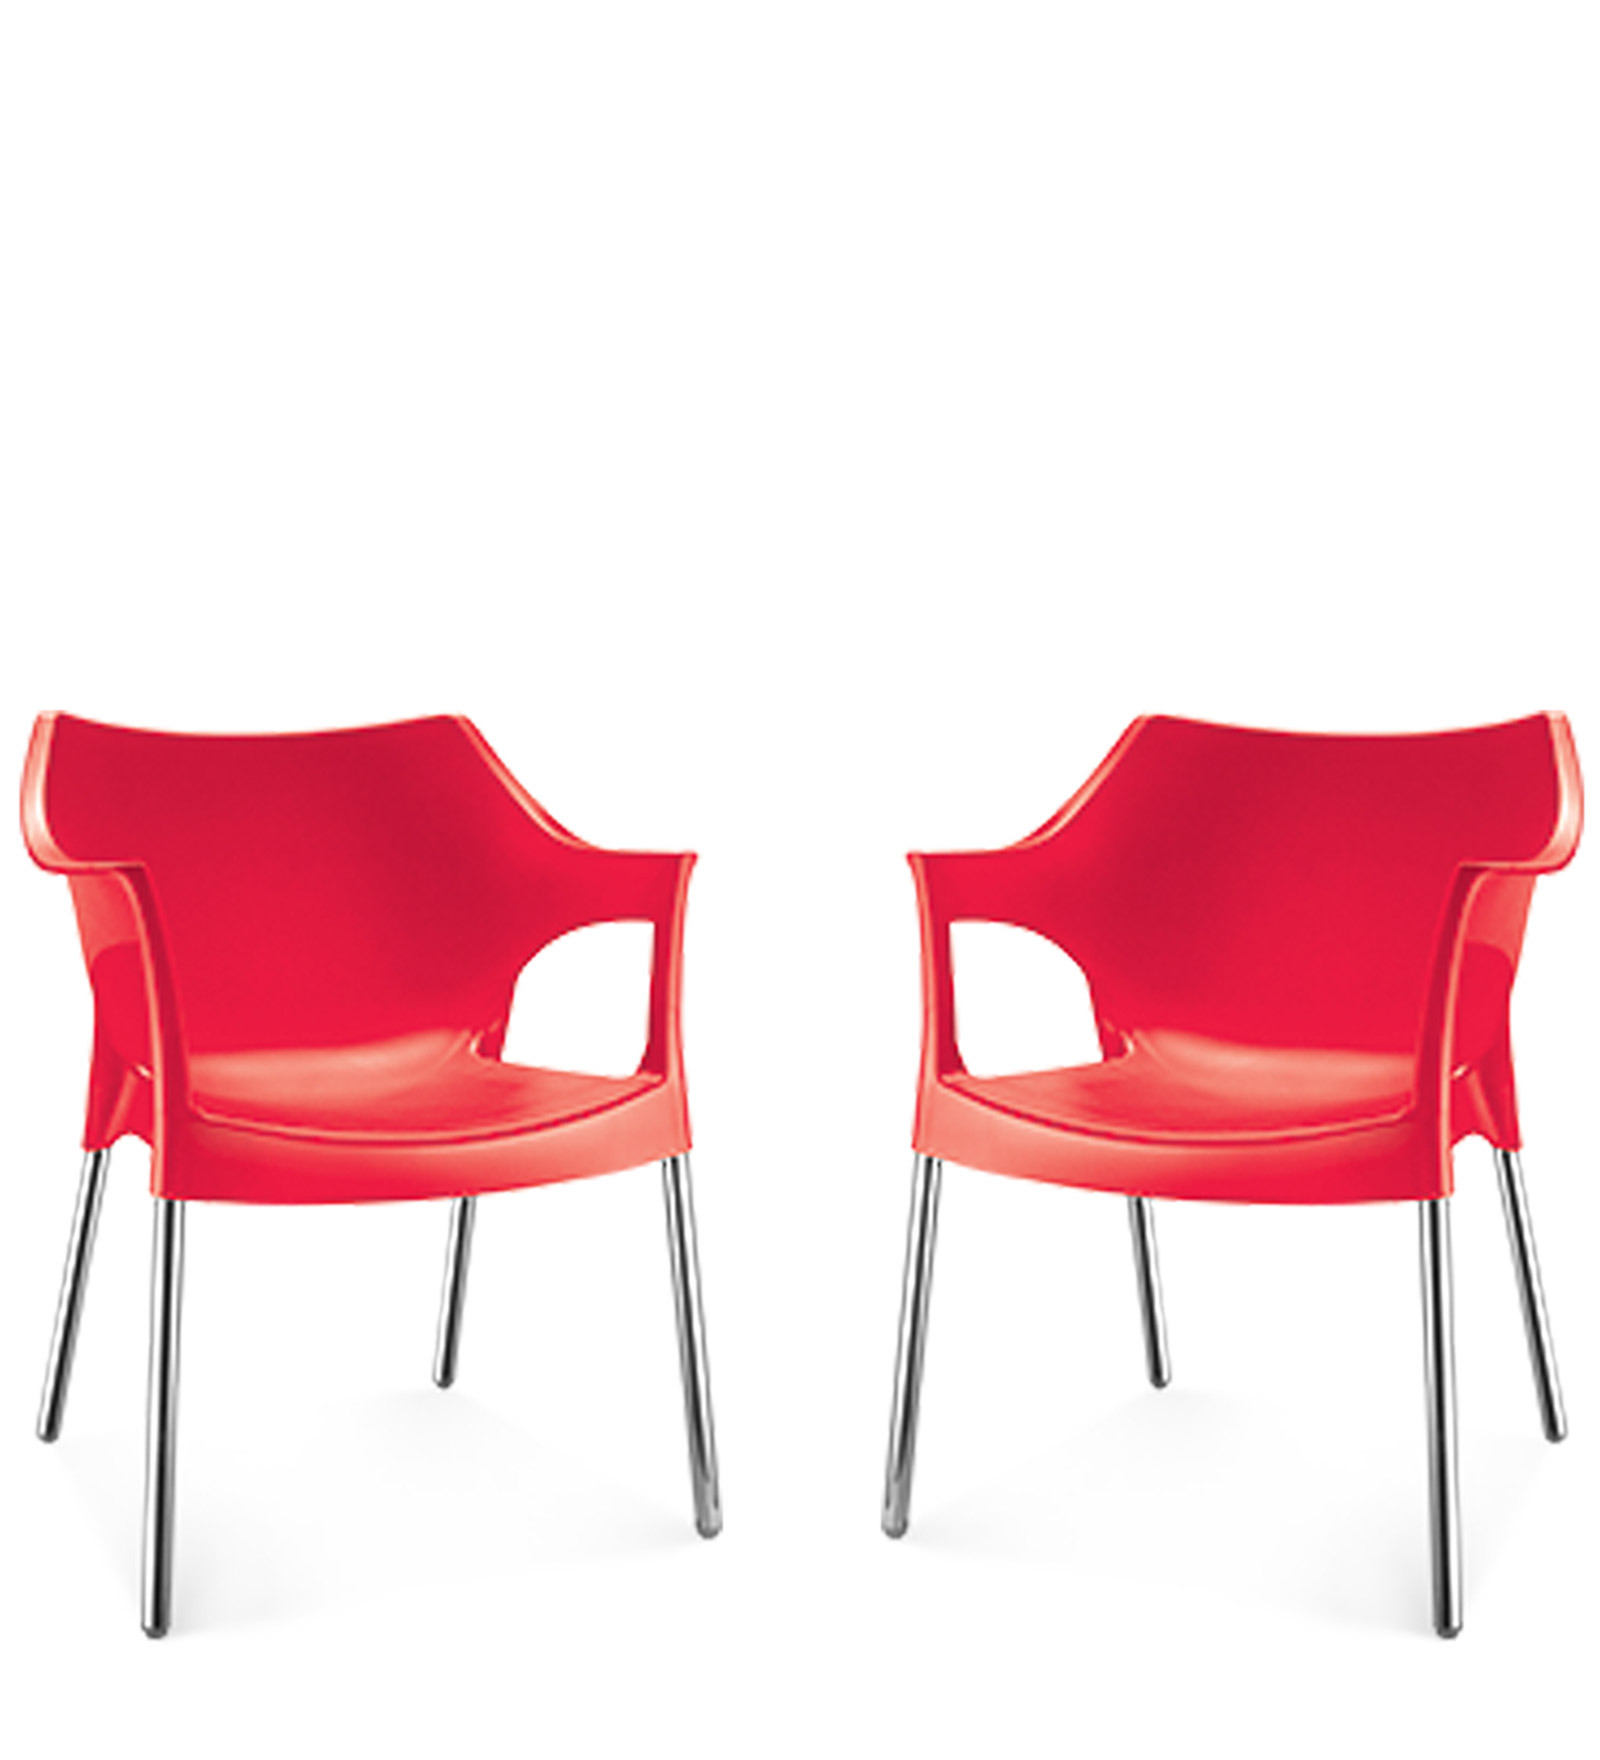Novella Series - 10 Set of 2 Chairs in Red Color by Nilkamal: (878, 691, 1600, 1642), (15, 704, 734, 1640)
